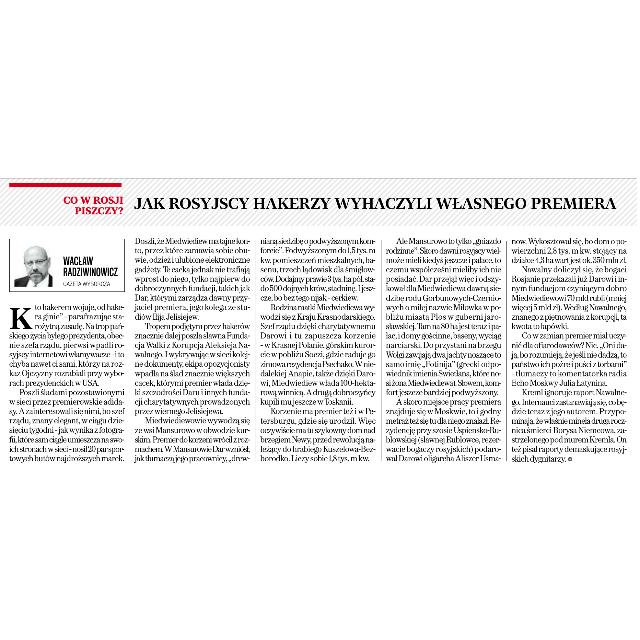author: (61, 252, 120, 278)
body: (509, 235, 631, 465), (258, 233, 378, 465), (134, 232, 252, 466), (384, 235, 504, 465), (4, 298, 128, 466)
title: (133, 189, 622, 217)
